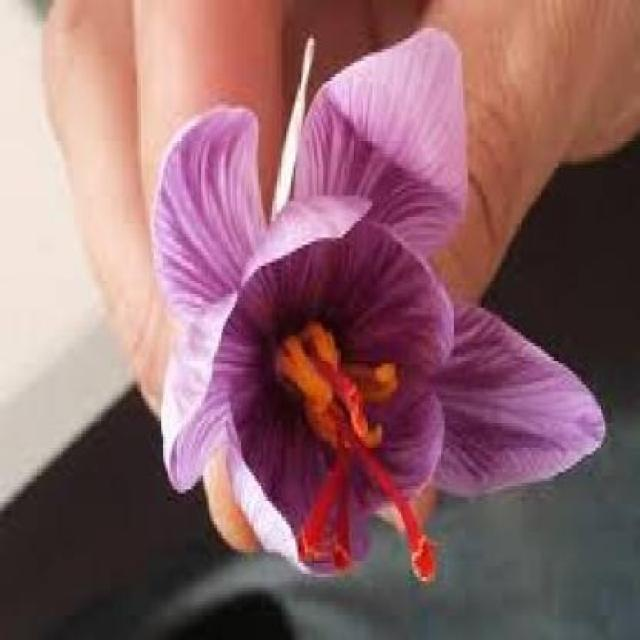saffron open: (158, 30, 601, 580)
